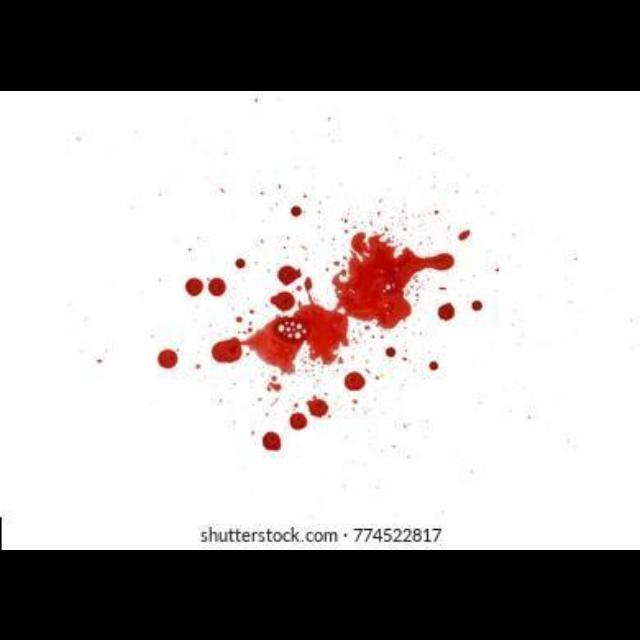blood: (212, 231, 455, 374), (181, 200, 338, 319), (407, 241, 523, 365), (322, 331, 445, 405), (133, 323, 215, 404), (289, 390, 333, 431), (267, 374, 286, 406), (271, 290, 295, 311), (279, 266, 302, 284), (261, 430, 281, 450), (352, 372, 368, 385), (351, 389, 360, 411), (341, 376, 350, 389)
